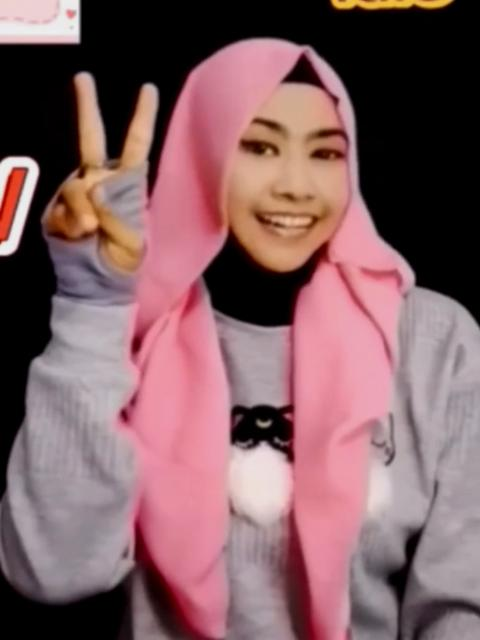V: (33, 66, 169, 314)
